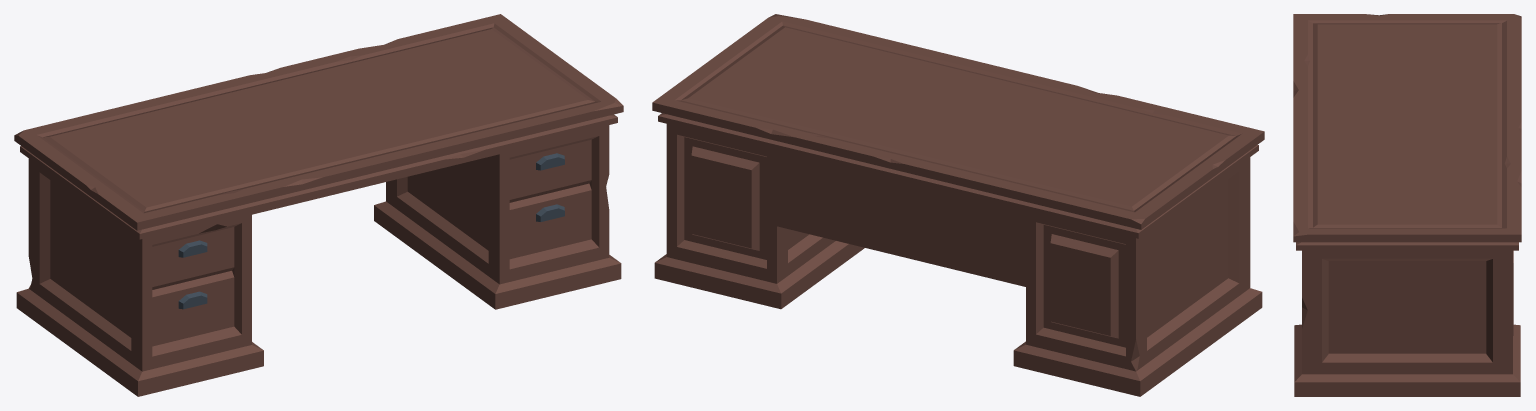
The model's file is Desk_03.FBX.
3 renders of one model, left to right at view 1: azimuth 30°, elevation 25°; view 2: azimuth 150°, elevation 25°; view 3: azimuth 270°, elevation 25°, orthographic. The views are drawn at different scales.
Parts seen in each view (by area): view 1: Desk_03; view 2: Desk_03; view 3: Desk_03.
Part boxes in pixels (x1,y1,x2,y2): Desk_03: [14, 14, 623, 396]; Desk_03: [652, 14, 1264, 396]; Desk_03: [1293, 14, 1521, 396].
Size of the model in its own units: 218 by 75 by 95.36.
